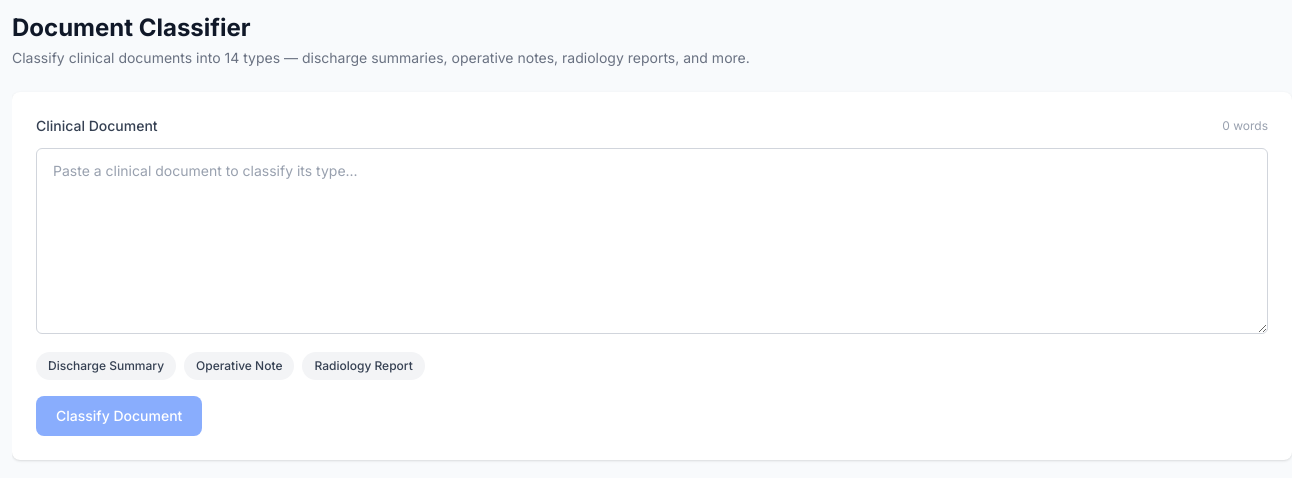
Test: DocumentClassifier › sample loading › enables classify button after loading sample
Click the button "Radiology Report" at (364, 366), box x1=302 y1=352 x2=425 y2=380
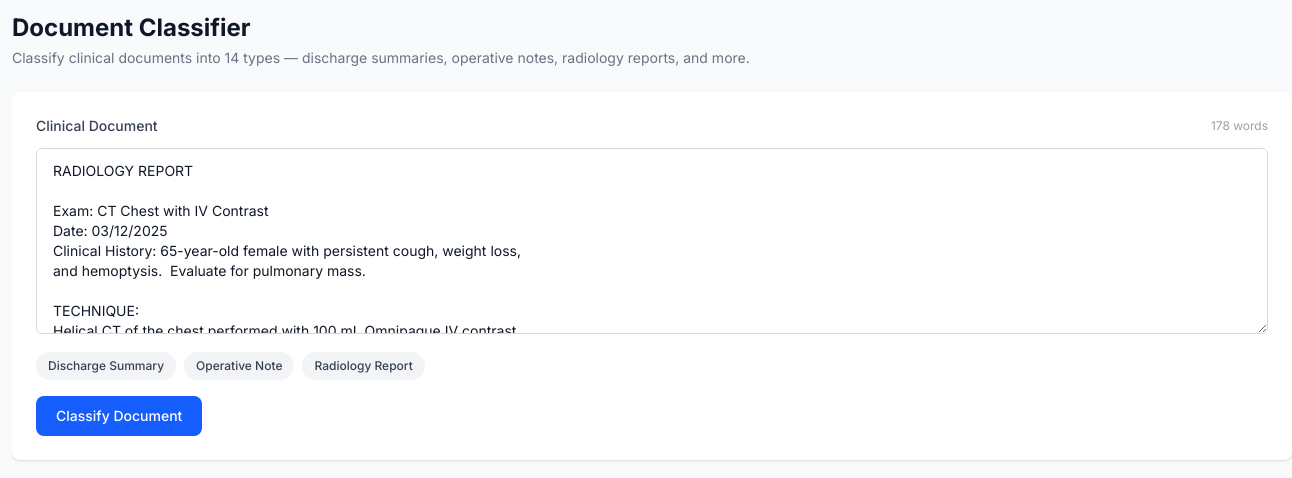
Expected: the button "Classify Document" is enabled, x1=36 y1=396 x2=202 y2=436
